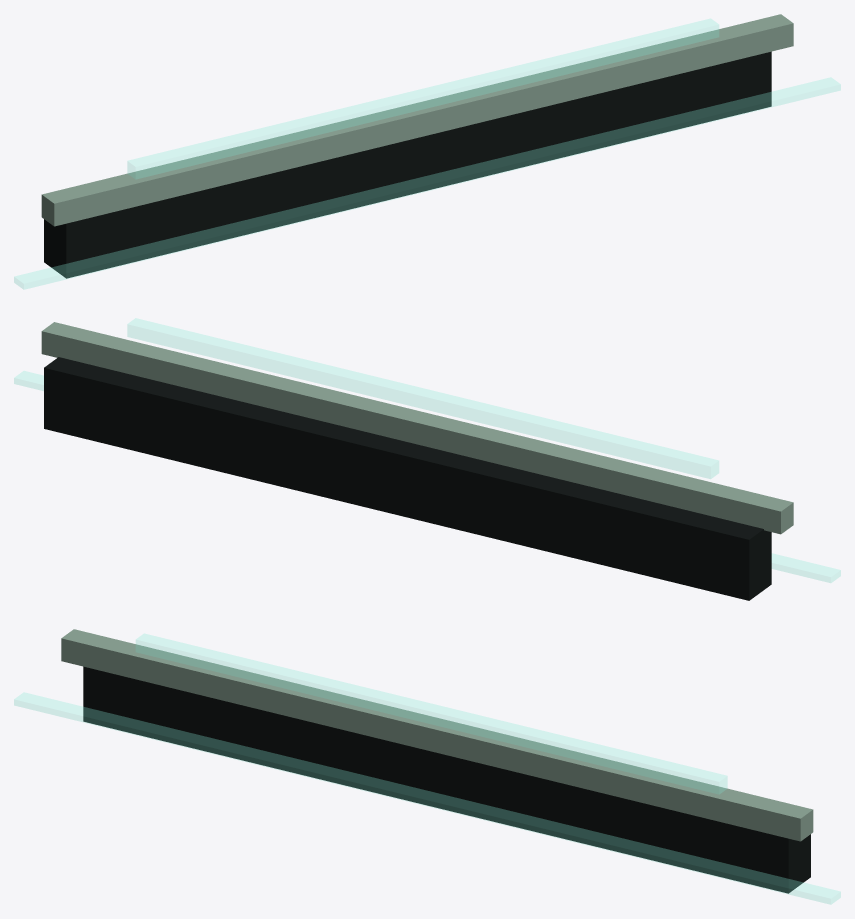
Rendered from hp_room_wall_wash_light_residential.glb.
3 renders of one model, top to bottom at view 1: azimuth 30°, elevation 25°; view 2: azimuth 150°, elevation 25°; view 3: azimuth 330°, elevation 25°, orthographic.
Visible parts, largest first — view 1: residential_wall_wash_mount, residential_wall_wash_upper_lip, residential_wall_wash_emissive_blade; view 2: residential_wall_wash_mount, residential_wall_wash_upper_lip, residential_wall_wash_emissive_blade; view 3: residential_wall_wash_mount, residential_wall_wash_upper_lip, residential_wall_wash_emissive_blade.
Boxes of the visible parts, bbox=[...] form: residential_wall_wash_mount: bbox=[44, 51, 771, 278]; residential_wall_wash_upper_lip: bbox=[41, 14, 793, 226]; residential_wall_wash_emissive_blade: bbox=[14, 18, 840, 289]; residential_wall_wash_mount: bbox=[44, 357, 771, 600]; residential_wall_wash_upper_lip: bbox=[41, 322, 793, 534]; residential_wall_wash_emissive_blade: bbox=[14, 318, 840, 582]; residential_wall_wash_mount: bbox=[83, 666, 810, 893]; residential_wall_wash_upper_lip: bbox=[61, 629, 813, 841]; residential_wall_wash_emissive_blade: bbox=[14, 633, 840, 904].
Bounding box in the file's own units: 1.68 × 0.2025 × 0.1275.
